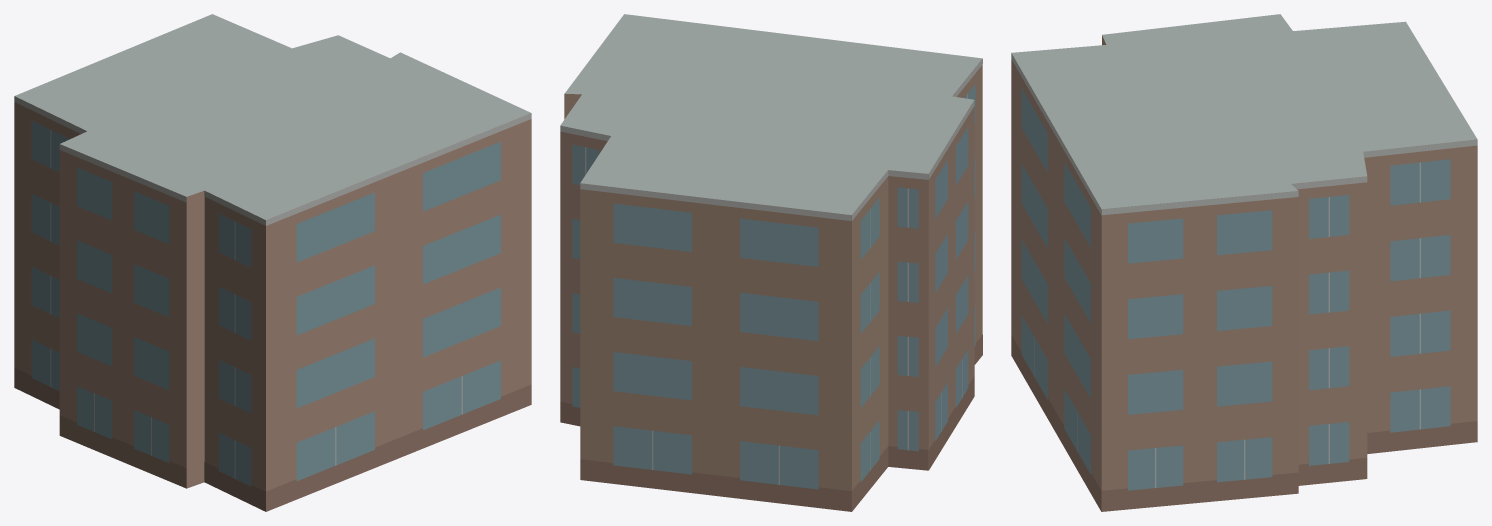
Rendered from survey-upis-32591094.glb.
The picture shows the model from 3 angles, left to right: view 1: azimuth 30°, elevation 25°; view 2: azimuth 150°, elevation 25°; view 3: azimuth 270°, elevation 25°; orthographic projection. The views are drawn at different scales.
Parts seen in each view (by area): view 1: survey-upis-32591094.tmp; view 2: survey-upis-32591094.tmp; view 3: survey-upis-32591094.tmp.
Boxes of the visible parts, x1,y1,x2,y2 form: survey-upis-32591094.tmp: (14, 14, 531, 511); survey-upis-32591094.tmp: (560, 14, 982, 511); survey-upis-32591094.tmp: (1011, 14, 1477, 511).
Bounding box in the file's own units: 16.89 × 12.2 × 17.04.
